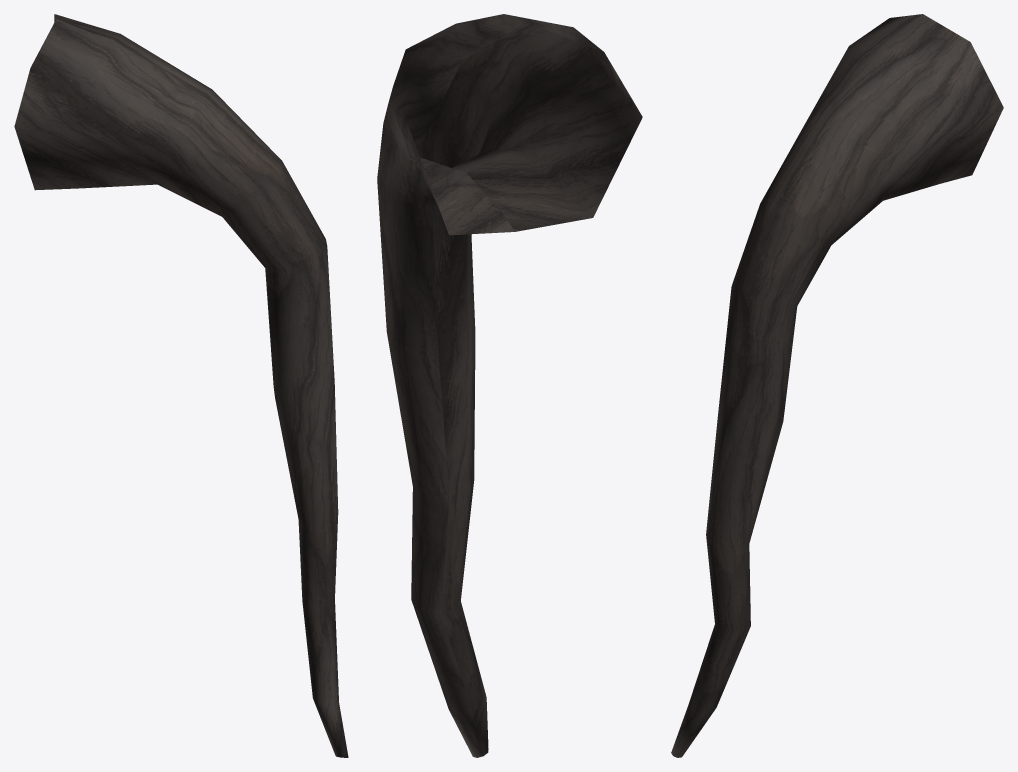
Rendered from Wurzel_01.fbx.
The picture shows the model from 3 angles, left to right: view 1: azimuth 30°, elevation 25°; view 2: azimuth 150°, elevation 25°; view 3: azimuth 270°, elevation 25°; orthographic projection. The views are drawn at different scales.
Parts seen in each view (by area): view 1: Wurzel_01_LOD0; view 2: Wurzel_01_LOD0; view 3: Wurzel_01_LOD0.
Boxes of the visible parts, x1=… form: Wurzel_01_LOD0: x1=14, y1=14, x2=348, y2=757; Wurzel_01_LOD0: x1=377, y1=14, x2=642, y2=757; Wurzel_01_LOD0: x1=671, y1=14, x2=1003, y2=757.
Bounding box in the file's own units: 3.8 × 9.82 × 4.45.
